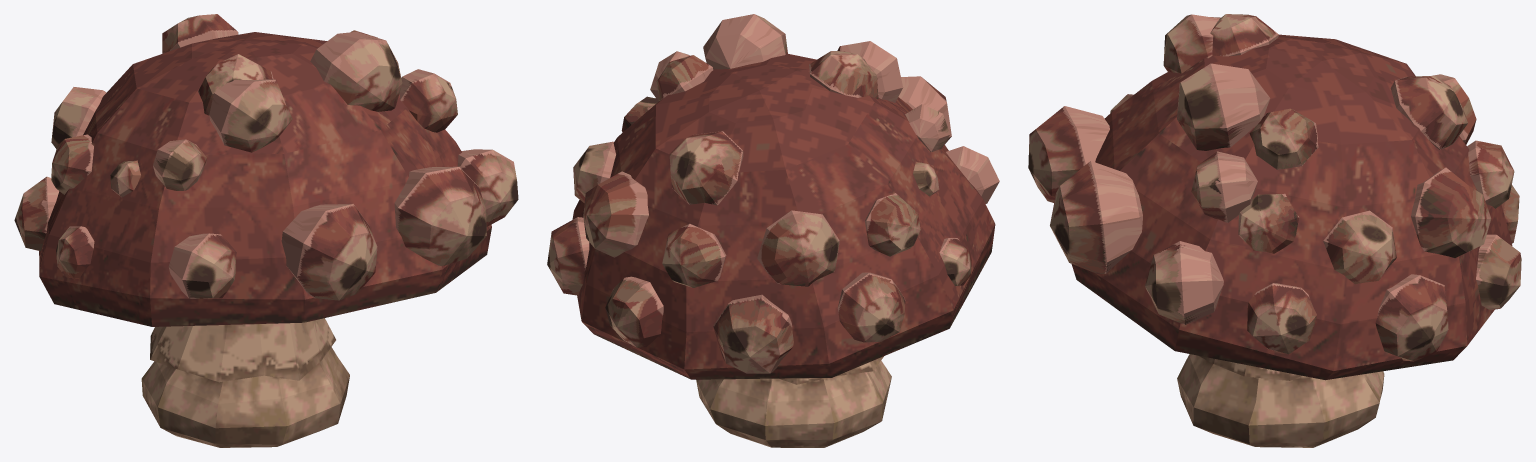
The model's file is CI01_FlyAgaricEyes.fbx.
3 views of the same model, side by side, from view 1: azimuth 30°, elevation 25°; view 2: azimuth 150°, elevation 25°; view 3: azimuth 270°, elevation 25° (orthographic). The views are drawn at different scales.
Visible parts, largest first — view 1: CI01_FlyAgaricEyes; view 2: CI01_FlyAgaricEyes; view 3: CI01_FlyAgaricEyes.
Part boxes in pixels (box(x1,y1,x2,y2)): CI01_FlyAgaricEyes: box(14, 14, 518, 447); CI01_FlyAgaricEyes: box(547, 14, 999, 447); CI01_FlyAgaricEyes: box(1028, 14, 1521, 447).
Bounding box in the file's own units: 0.2145 × 0.1921 × 0.2195.
1 material, 1 textured.
